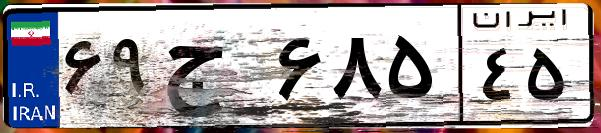4: (475, 38, 525, 113)
5: (385, 28, 445, 110), (525, 38, 570, 115)
6: (270, 28, 330, 110), (57, 26, 110, 100)
8: (330, 28, 385, 110)
9: (110, 28, 158, 98)
ج: (158, 20, 270, 120)
